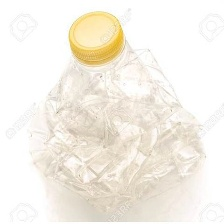bottle: (25, 6, 218, 215)
